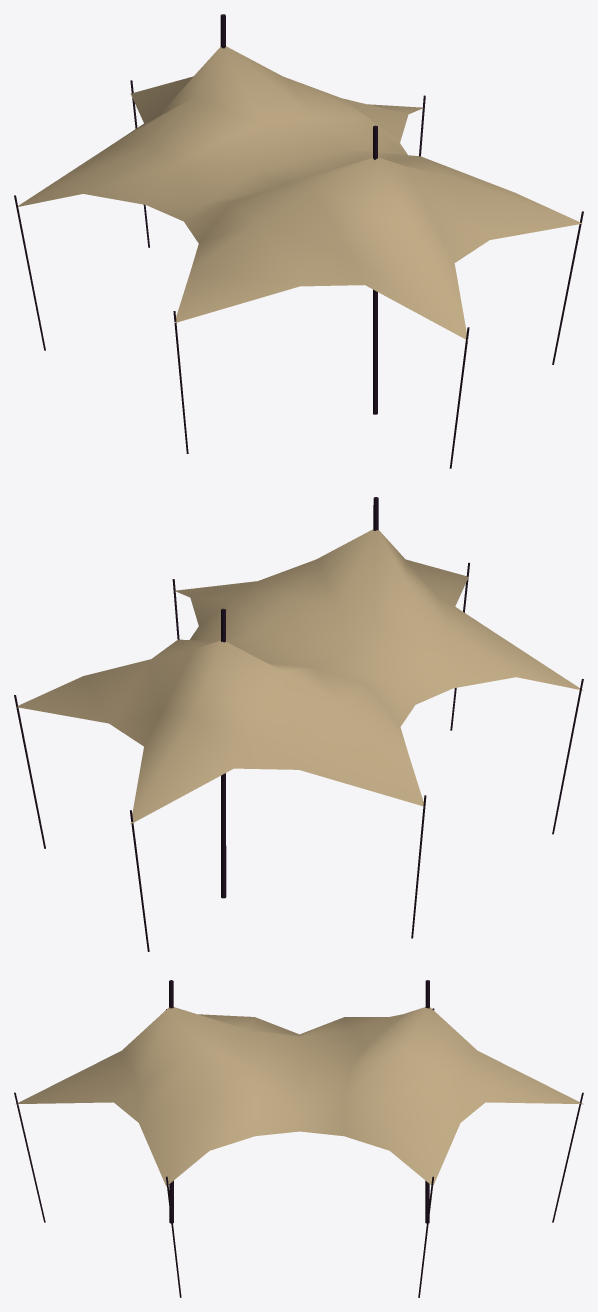
File: Tent-roof-large-c.fbx
3 renders of one model, top to bottom at view 1: azimuth 30°, elevation 25°; view 2: azimuth 150°, elevation 25°; view 3: azimuth 270°, elevation 25°, orthographic. The views are drawn at different scales.
Parts seen in each view (by area): view 1: Roof, ZylinderMitte_2; view 2: Roof, ZylinderMitte_1; view 3: Roof.
Boxes of the visible parts, left/top/right/bottom form: Roof: left=18, top=46, right=582, bottom=340; ZylinderMitte_2: left=373, top=125, right=377, bottom=414; Roof: left=16, top=529, right=583, bottom=824; ZylinderMitte_1: left=221, top=608, right=226, bottom=898; Roof: left=15, top=1007, right=583, bottom=1186.
Size of the model in its own units: 900 by 600 by 1282.
